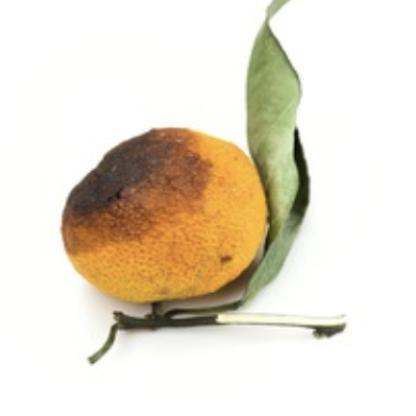rotten: (63, 128, 295, 335)
